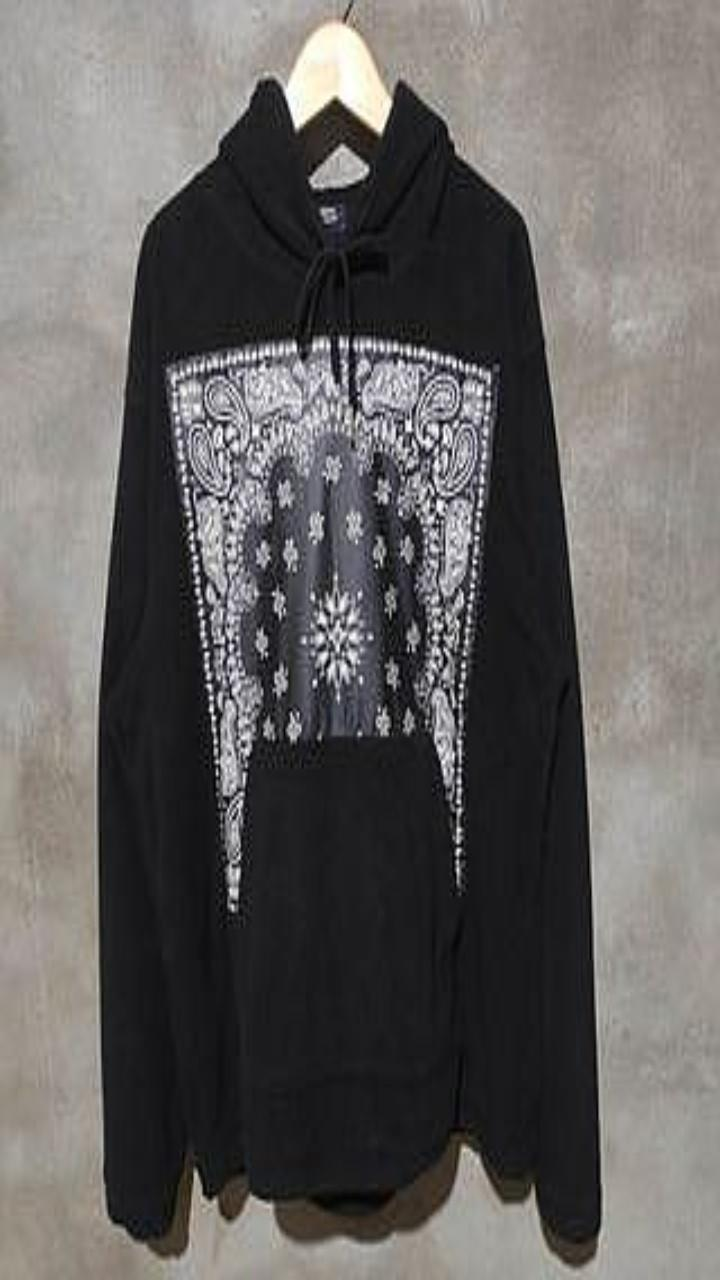Hoodie: (98, 77, 600, 1239)
